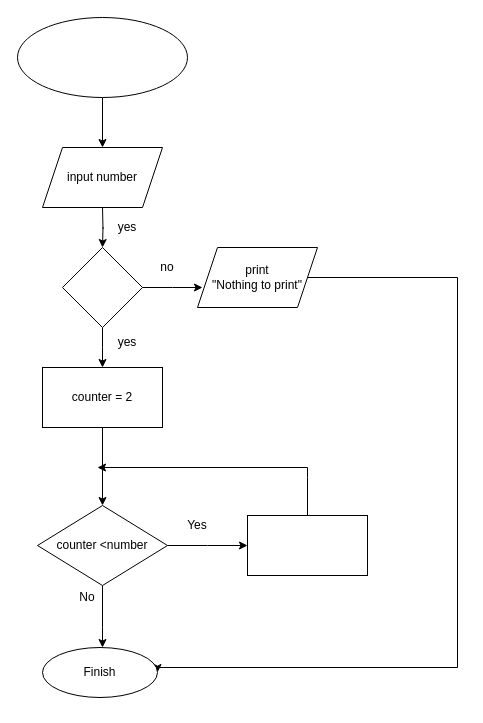
Some shapes in this 483 by 723 pixel diagram are drawn without their labels. The shapes that lost their labels are listed below. From the top down, each one's centre as x and y in pixels, then its label:
point (102, 57): Start
point (102, 287): number>1
point (307, 545): print counter counter+=2
